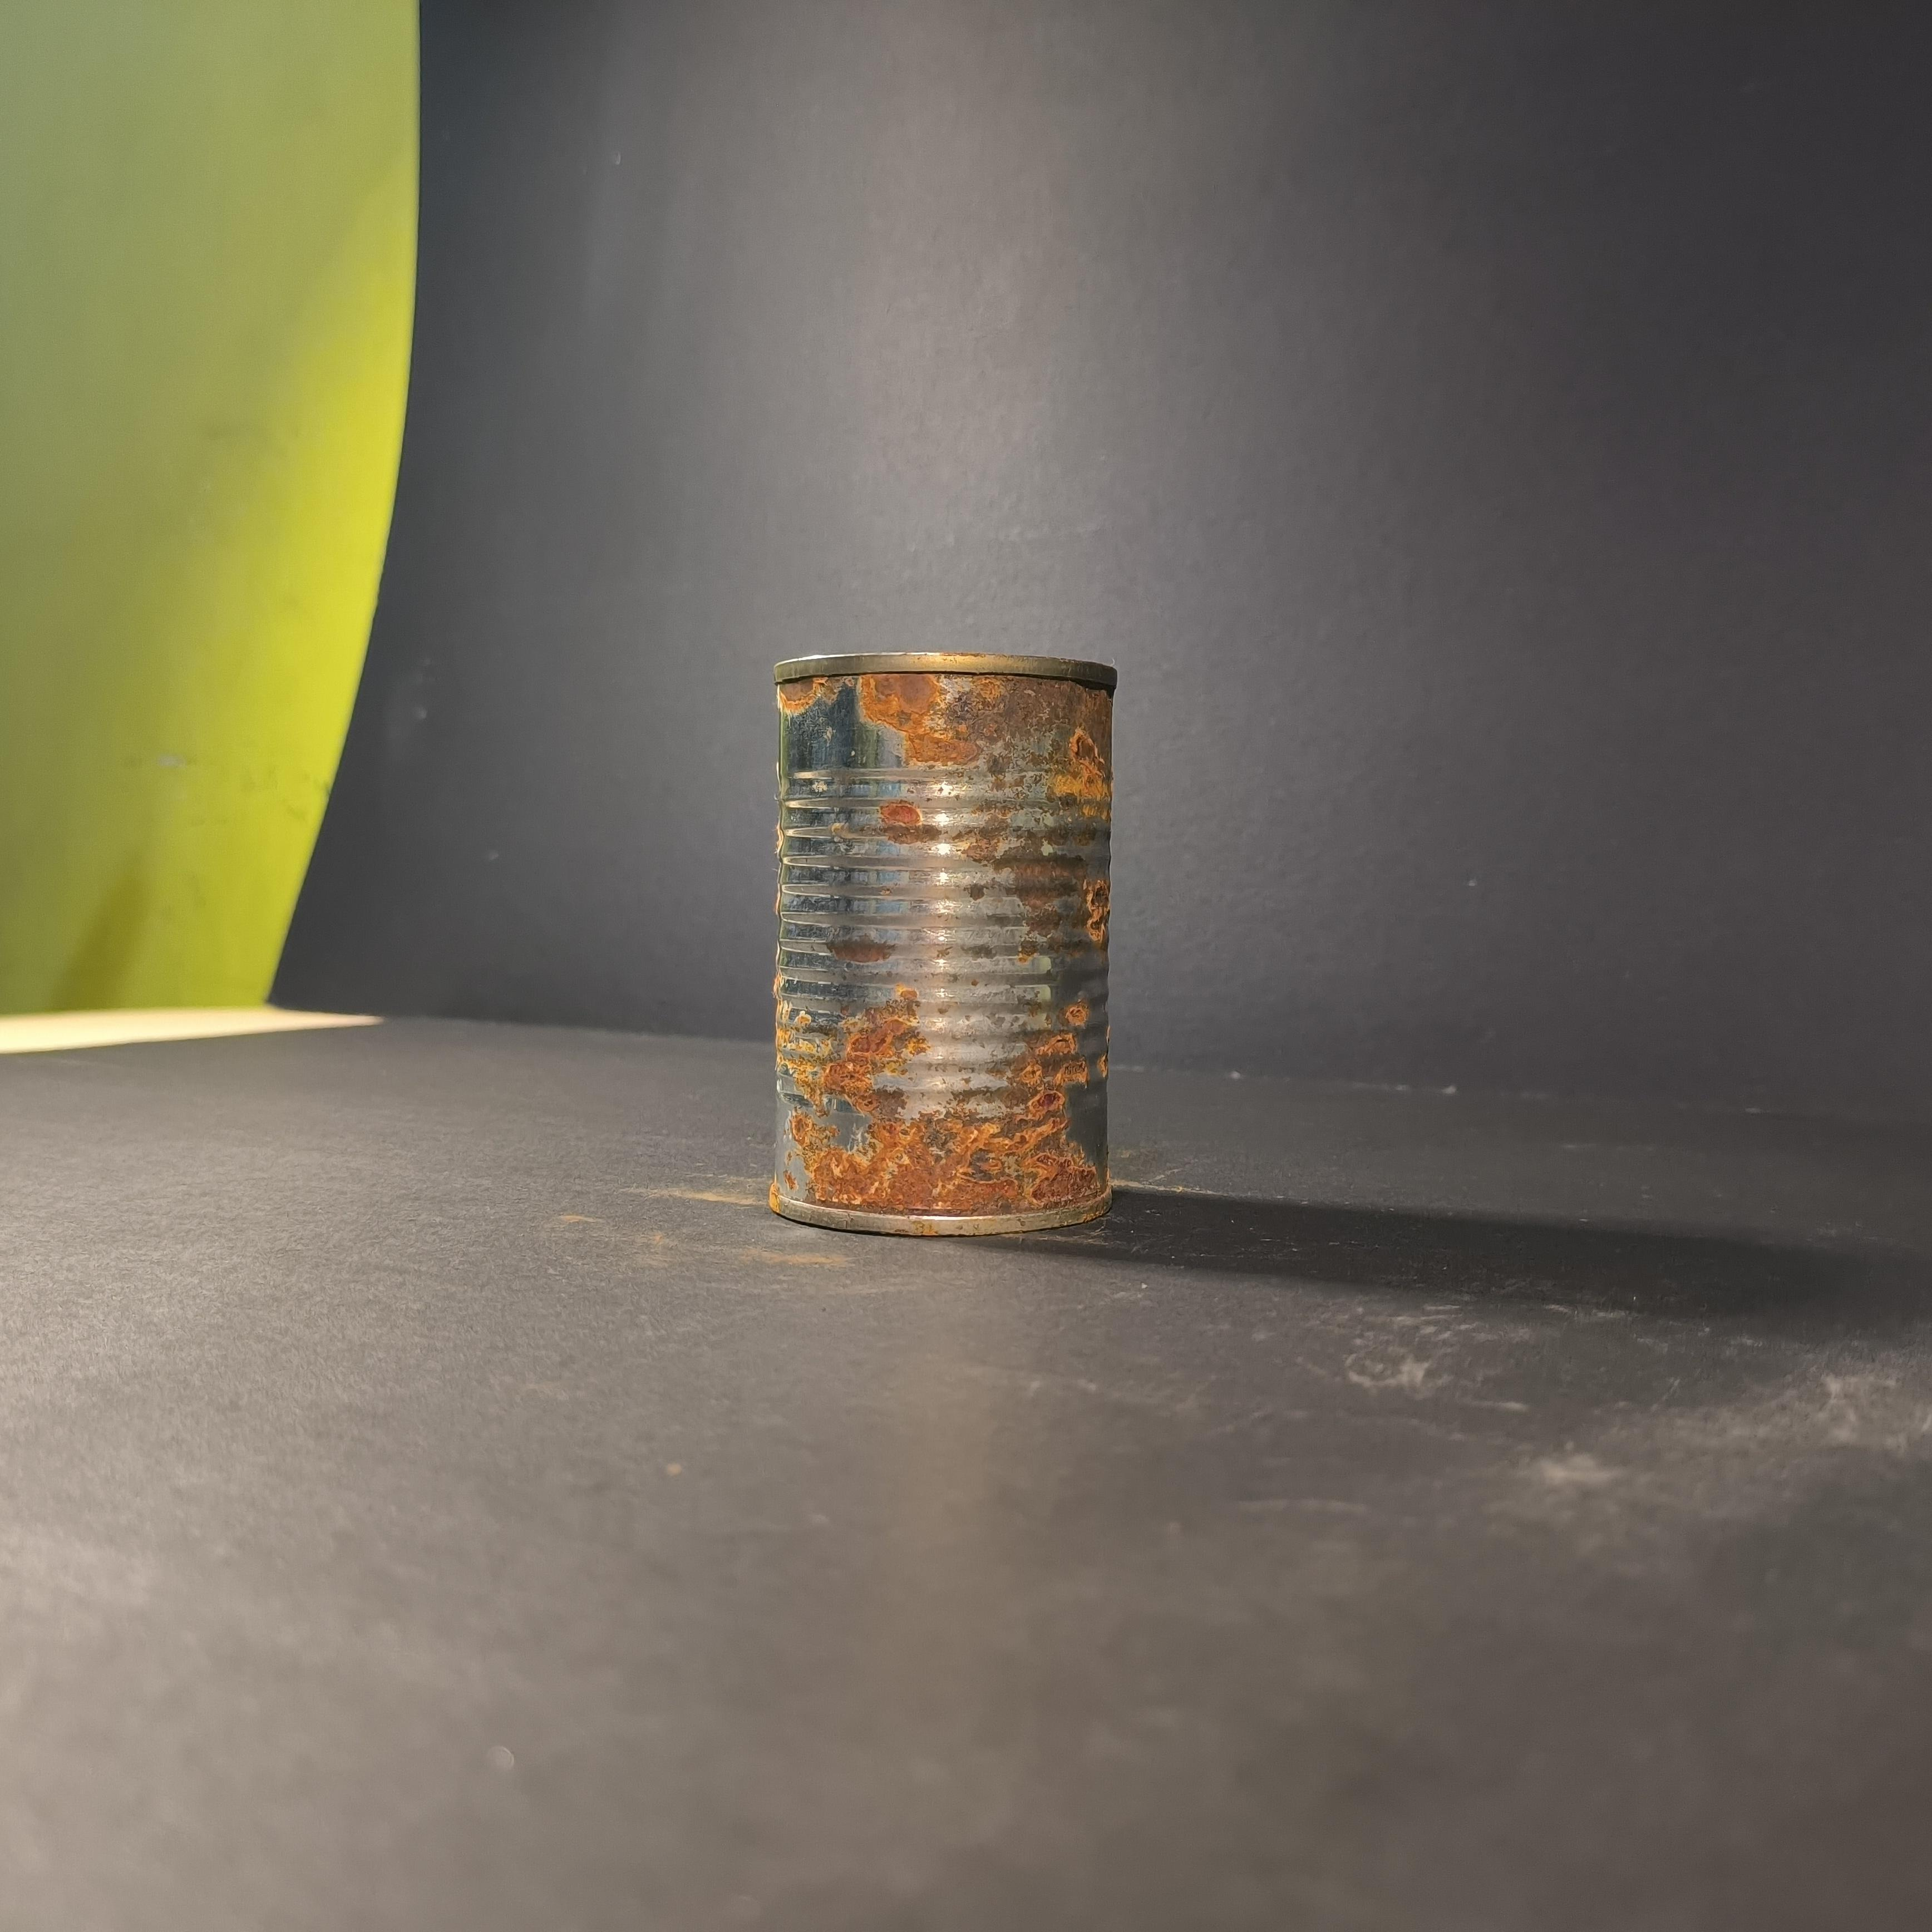Rusted: (759, 632, 1138, 1258)
